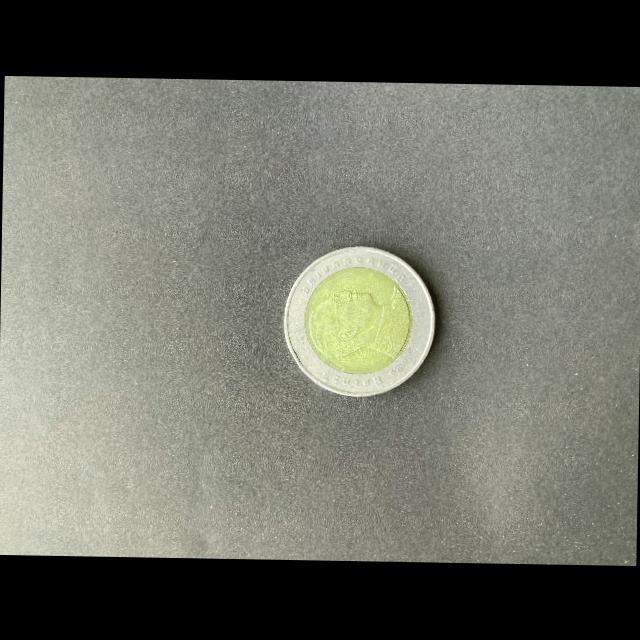10 Bath: (284, 244, 441, 404)
